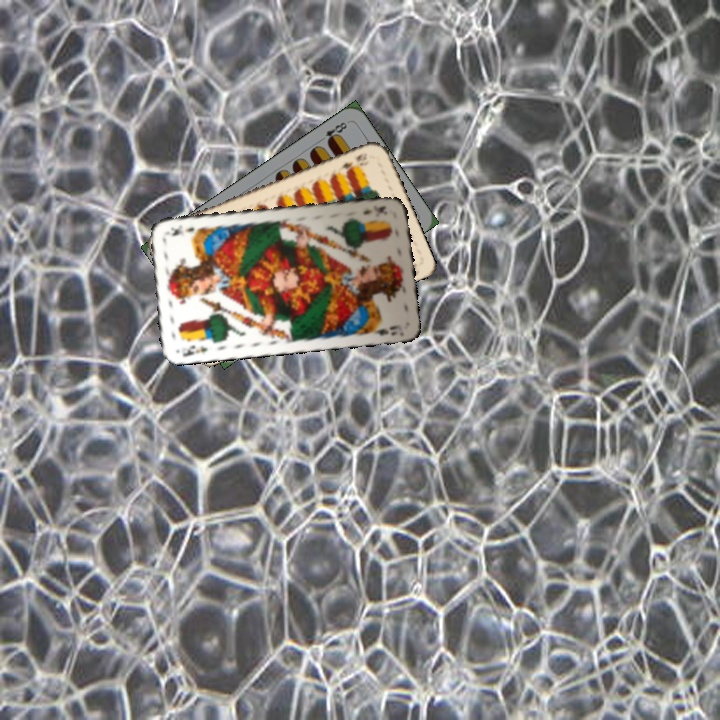E10: (335, 149, 370, 175)
E8: (315, 118, 350, 146)
EK: (178, 341, 210, 359), (359, 201, 390, 217)
